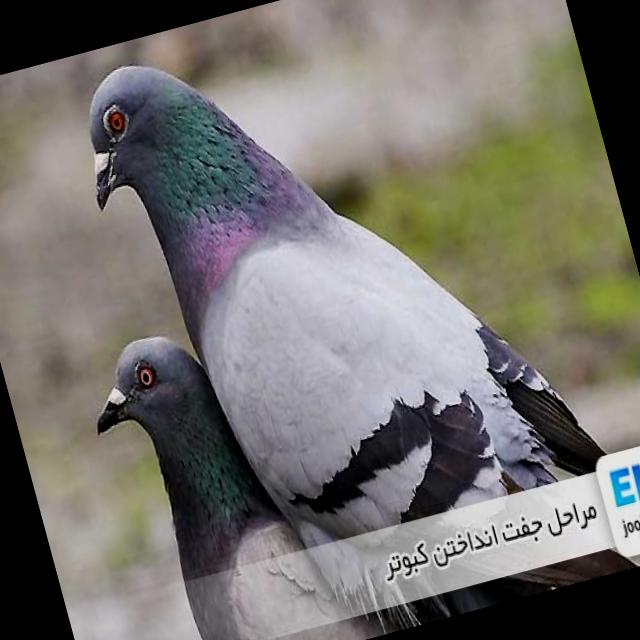bird: (60, 0, 608, 577), (72, 293, 394, 640)
